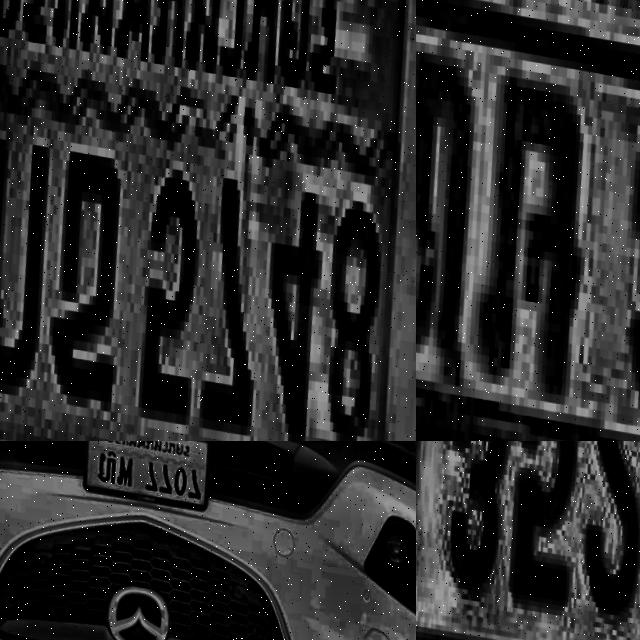license-plate: (0, 0, 416, 441), (416, 0, 640, 441), (416, 441, 640, 640), (72, 441, 216, 512)
